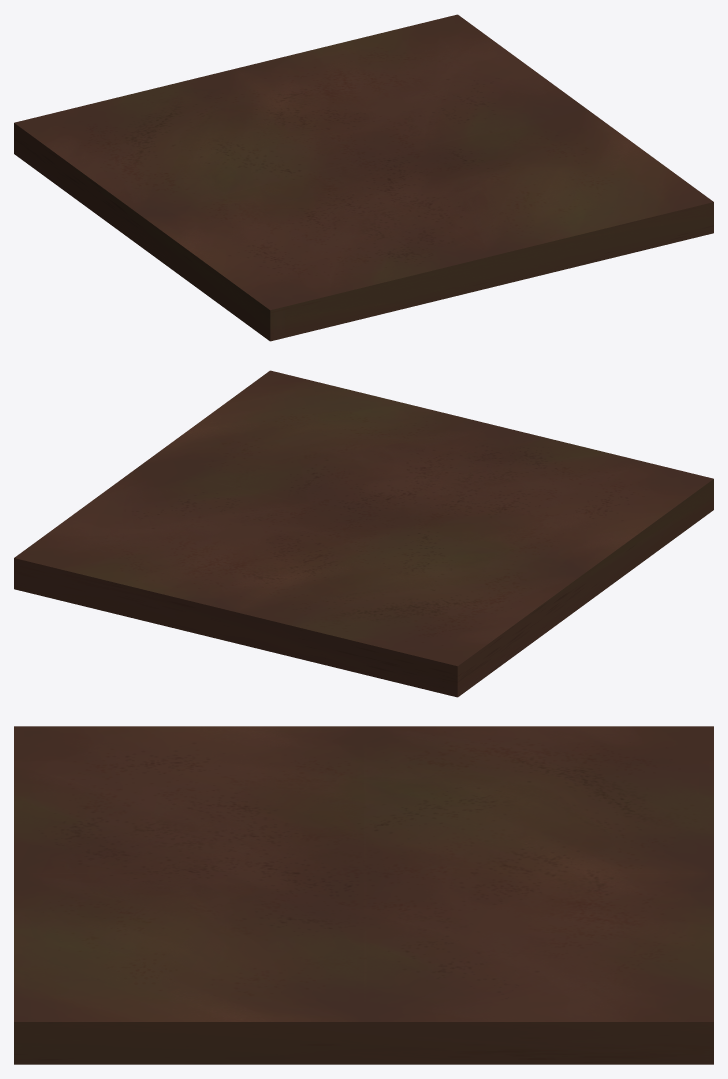
The model's file is dirtfloor1.fbx.
3 renders of one model, top to bottom at view 1: azimuth 30°, elevation 25°; view 2: azimuth 150°, elevation 25°; view 3: azimuth 270°, elevation 25°, orthographic. The views are drawn at different scales.
Parts seen in each view (by area): view 1: dirtfloor1; view 2: dirtfloor1; view 3: dirtfloor1.
Boxes of the visible parts, x1,y1,x2,y2 form: dirtfloor1: (14,14,713,341); dirtfloor1: (14,370,713,697); dirtfloor1: (14,726,713,1064).
Size of the model in its own units: 161 by 14.69 by 161.
Materials: 1 (1 with a texture image).
